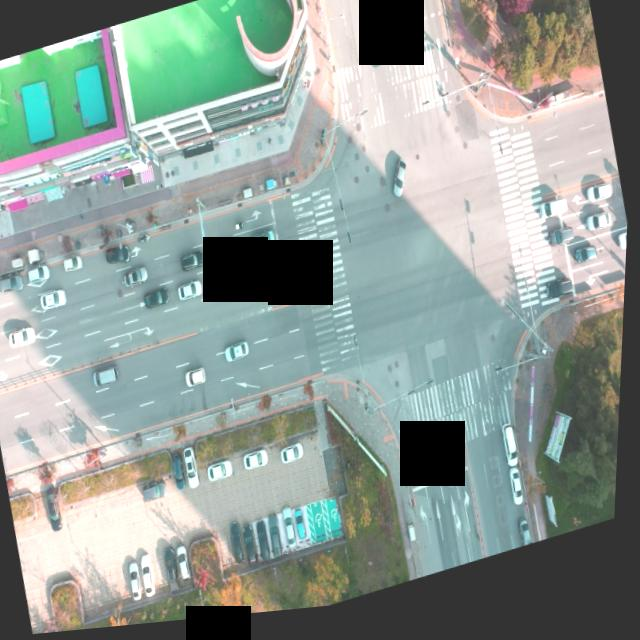car: (540, 210, 570, 233)
small_truck: (216, 268, 246, 295)
